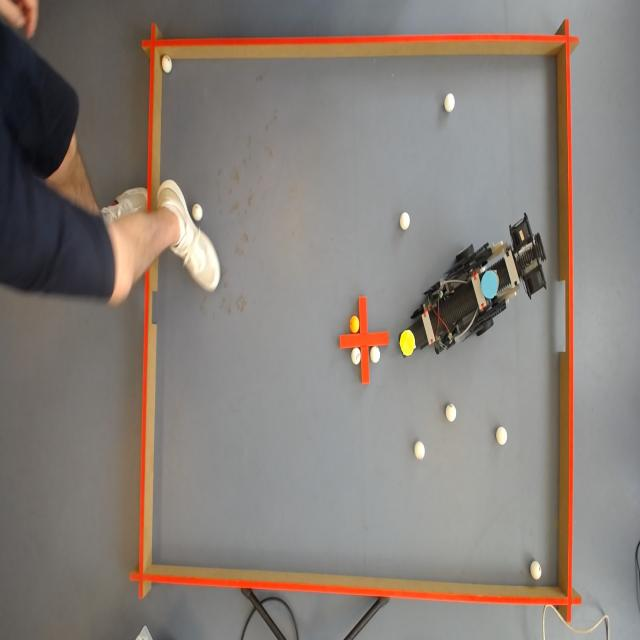orange: (348, 314, 358, 331)
robot: (398, 206, 546, 362)
robot-front: (400, 334, 416, 356)
robot-rear: (479, 272, 498, 297)
white: (529, 560, 543, 583), (191, 201, 204, 222), (444, 403, 458, 422), (413, 441, 426, 460), (444, 93, 456, 113), (496, 427, 508, 446), (161, 56, 173, 72), (371, 345, 382, 362), (400, 213, 410, 231), (350, 347, 359, 364)
